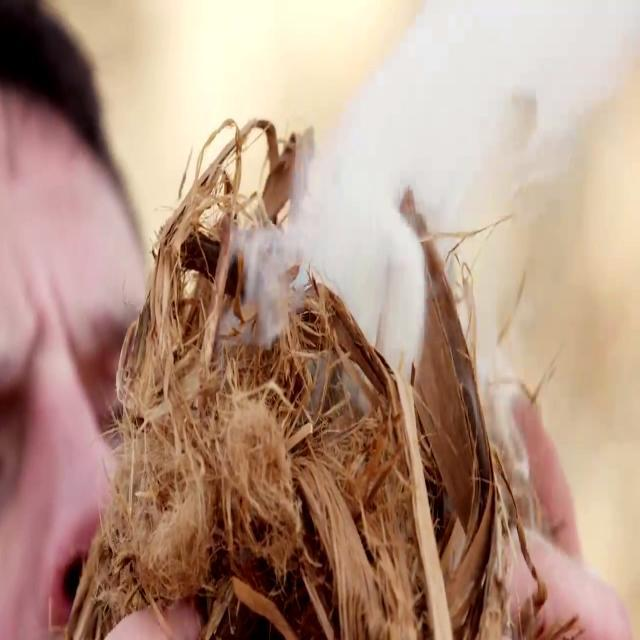Smoke: (256, 45, 500, 352)
